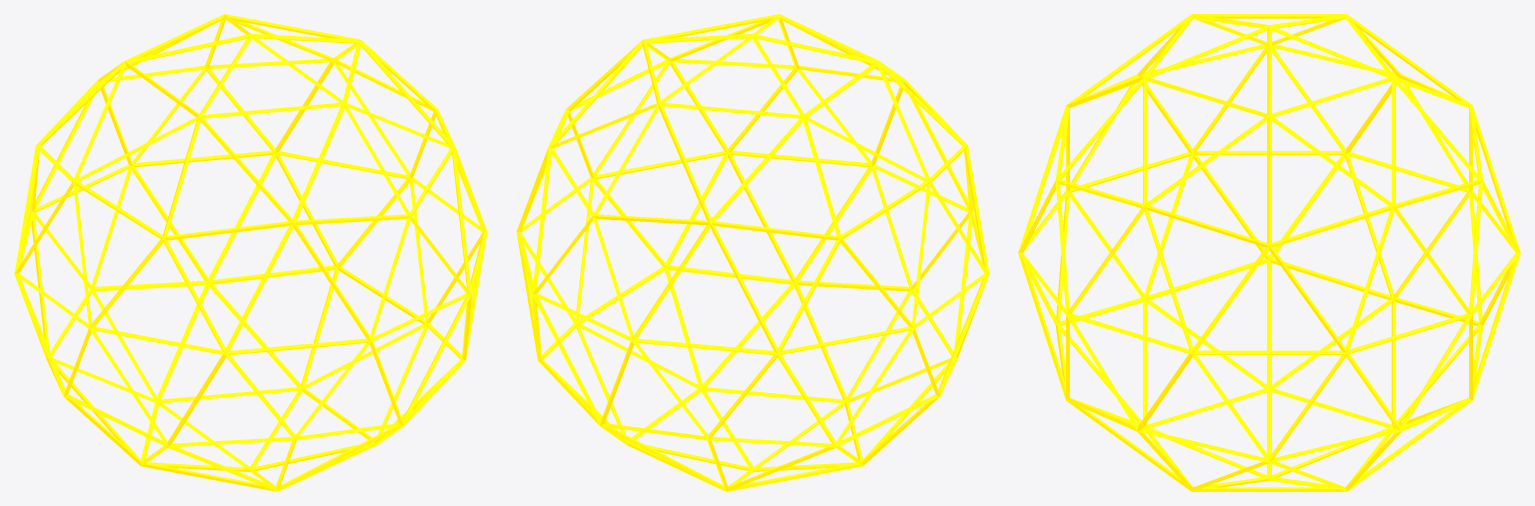
The model's file is ball.fbx.
The picture shows the model from 3 angles, left to right: view 1: azimuth 30°, elevation 25°; view 2: azimuth 150°, elevation 25°; view 3: azimuth 270°, elevation 25°; orthographic projection. The views are drawn at different scales.
Parts seen in each view (by area): view 1: Icosphere.004; view 2: Icosphere.004; view 3: Icosphere.004.
Boxes of the visible parts, box(x1,y1,x2,y2) form: Icosphere.004: box(14, 14, 487, 491); Icosphere.004: box(516, 14, 989, 491); Icosphere.004: box(1018, 14, 1520, 491).
Size of the model in its own units: 1167 by 1228 by 1228.
